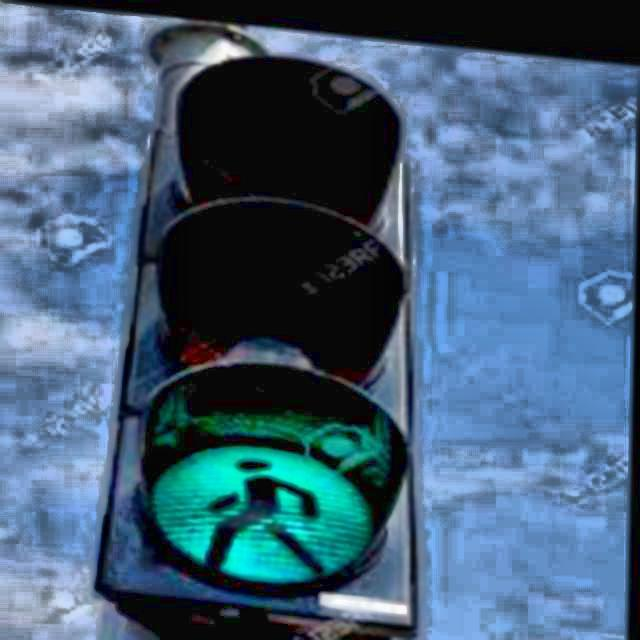semaforo pedestre: (64, 24, 453, 640)
